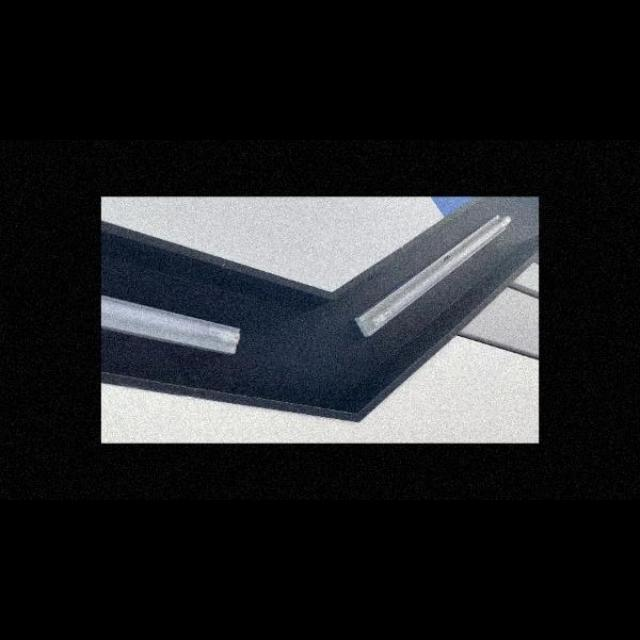Straight-Tube-Fluorescent-Lamp: (346, 209, 518, 343), (102, 265, 248, 369)
